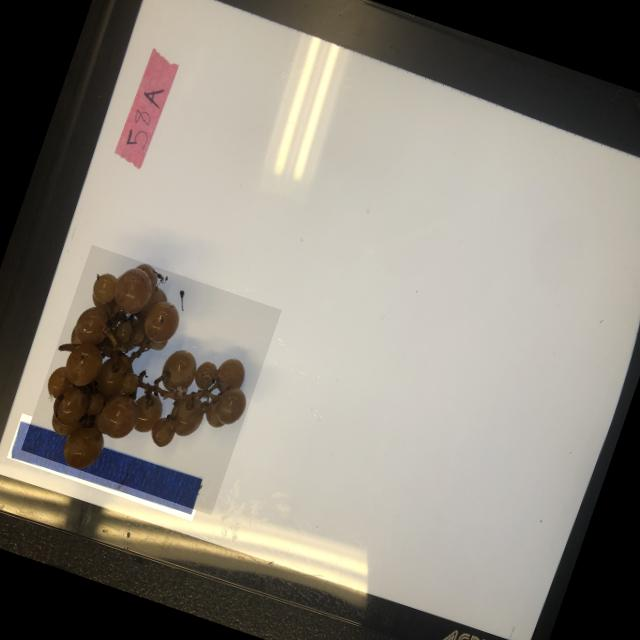grape_cluster: (20, 243, 282, 514)
index: (108, 42, 186, 172)
measure_label: (6, 412, 208, 520)
